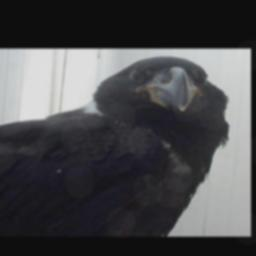Crow: (0, 55, 233, 236)
